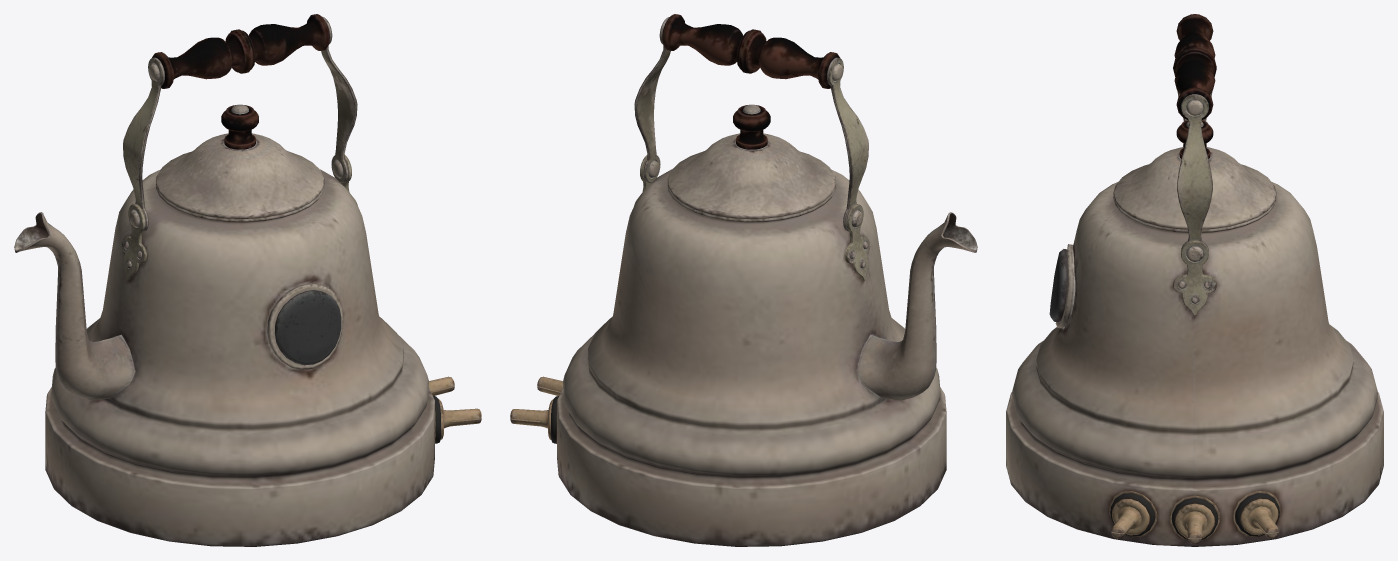
Rendered from vintage_electric_kettle.gltf.
3 views of the same model, side by side, from view 1: azimuth 30°, elevation 25°; view 2: azimuth 150°, elevation 25°; view 3: azimuth 270°, elevation 25° (orthographic). The views are drawn at different scales.
Parts seen in each view (by area): view 1: vintage_electric_kettle; view 2: vintage_electric_kettle; view 3: vintage_electric_kettle.
Boxes of the visible parts, left/top/right/bottom form: vintage_electric_kettle: left=14, top=14, right=481, bottom=546; vintage_electric_kettle: left=510, top=14, right=977, bottom=546; vintage_electric_kettle: left=1006, top=14, right=1383, bottom=546.
Size of the model in its own units: 0.3209 by 0.3047 by 0.2486.
Materials: 2 (2 with a texture image).
